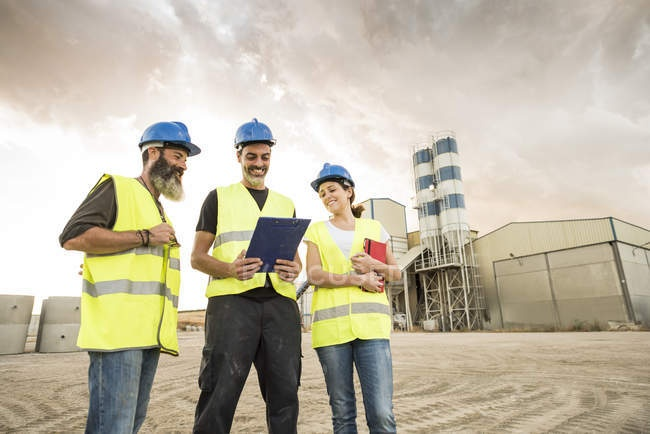helmet: (134, 121, 201, 156), (231, 123, 278, 145), (311, 166, 354, 186)
person with full safety: (65, 119, 183, 432), (196, 120, 307, 434), (308, 161, 407, 433)
safety vest: (82, 174, 180, 355), (304, 216, 399, 348), (212, 178, 296, 304)
